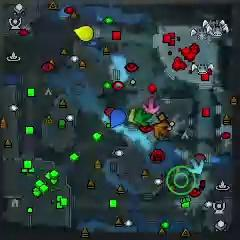p1: (110, 109, 125, 130)
p4: (74, 25, 95, 42)
x1: (142, 98, 159, 114)
x2: (128, 107, 137, 126)
x3: (189, 158, 204, 175)
x4: (134, 108, 153, 127)
x5: (153, 121, 171, 140)
